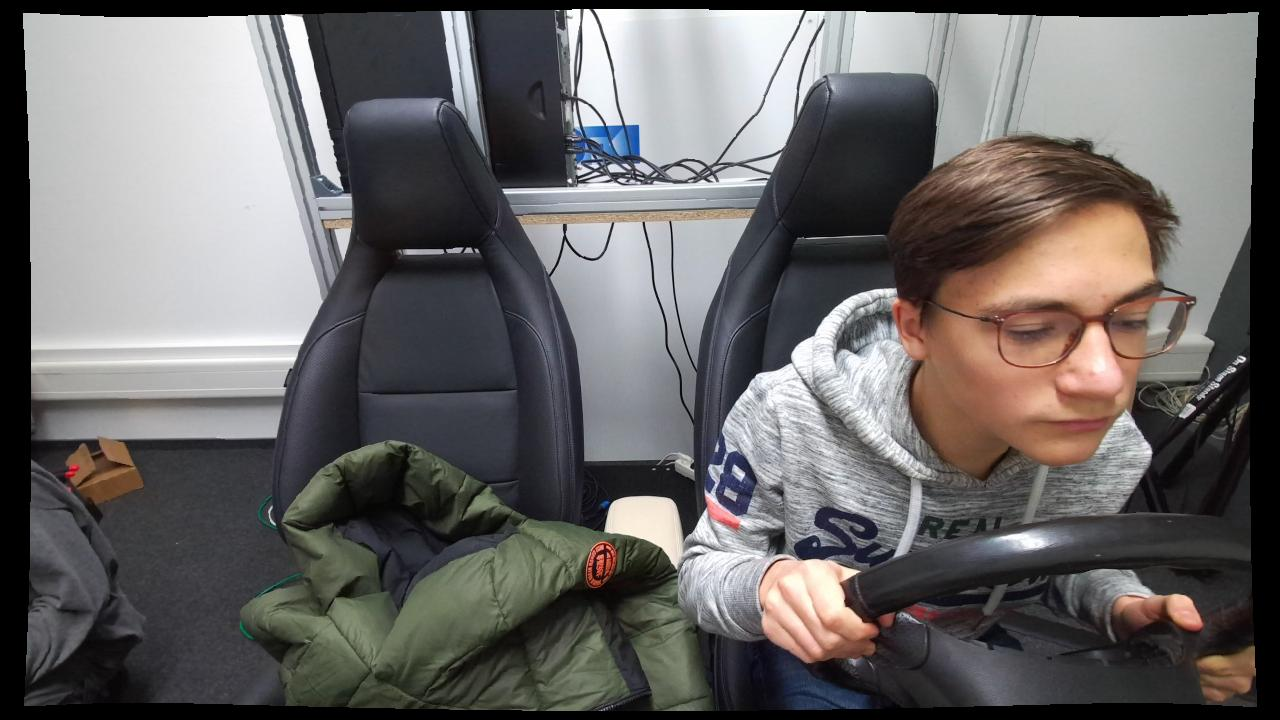Distracted: (677, 134, 1203, 713)
